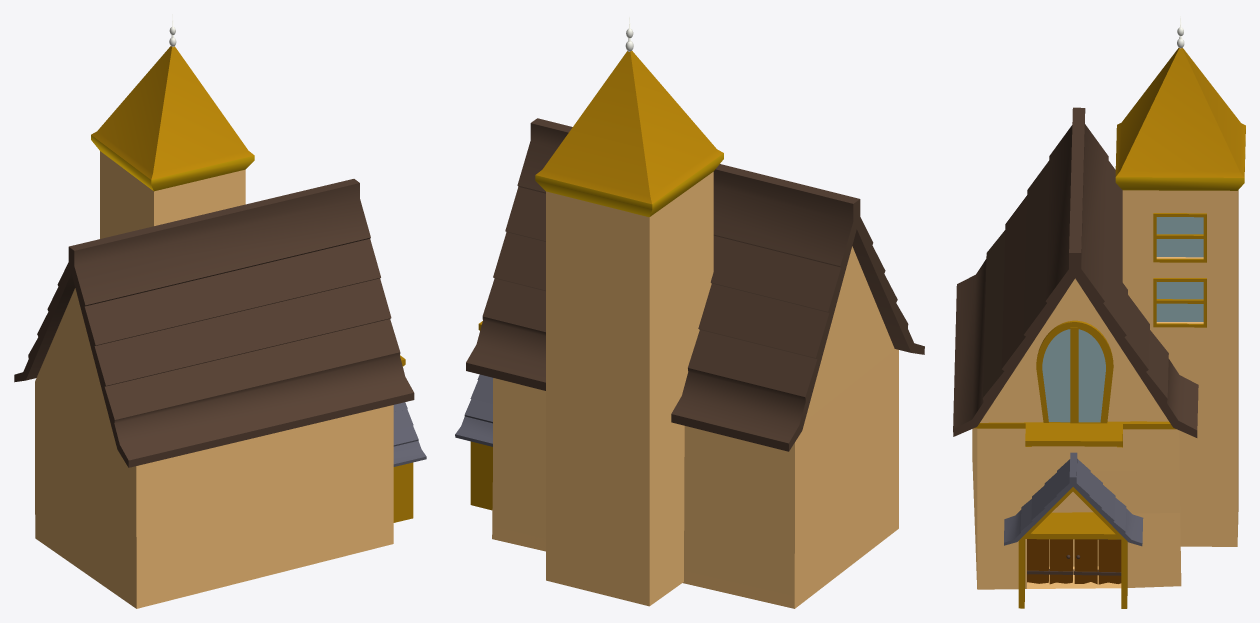
The model's file is House6.fbx.
3 views of the same model, side by side, from view 1: azimuth 30°, elevation 25°; view 2: azimuth 150°, elevation 25°; view 3: azimuth 270°, elevation 25° (orthographic). The views are drawn at different scales.
Parts seen in each view (by area): view 1: Default(D918DCCD-2917-4017-B54F-1DBC33B5E81E), pCube12, Default(06B24B22-9CDE-4601-B50D-6073F47573F7), Default(25EBCE96-919C-42B2-94B0-D2AB26F09CA7), Default(8A311567-3C1D-4961-8098-878DD486F05E), Default(64937322-89D8-4AE9-8042-CF31B6D1F1B2), Default(DEB19FDE-6F09-458B-93FE-27B75FC9B4D1); view 2: Default(25EBCE96-919C-42B2-94B0-D2AB26F09CA7), pCube12, Default(D918DCCD-2917-4017-B54F-1DBC33B5E81E), Default(06B24B22-9CDE-4601-B50D-6073F47573F7), Default(8A311567-3C1D-4961-8098-878DD486F05E), Default(64937322-89D8-4AE9-8042-CF31B6D1F1B2), Default(DEB19FDE-6F09-458B-93FE-27B75FC9B4D1); view 3: Default(D918DCCD-2917-4017-B54F-1DBC33B5E81E), pCube12, Default(25EBCE96-919C-42B2-94B0-D2AB26F09CA7), Default(06B24B22-9CDE-4601-B50D-6073F47573F7), Default(CEE02D35-00EF-4E37-9977-71E2DD6D1BD2), Default(64937322-89D8-4AE9-8042-CF31B6D1F1B2), Default(847208A8-F9E9-4D86-A06D-78CFBB1B194E), Default(DEB19FDE-6F09-458B-93FE-27B75FC9B4D1), Default(10C4EEE9-996B-4BDD-983C-F51855ECD18F), Default(E2ABA6D7-B723-403A-8DDB-6A264568DC00), Default(B0A7BFFF-5777-4461-A794-4FD283C4DF8E), Default(8A311567-3C1D-4961-8098-878DD486F05E) (+4 smaller).
Part boxes in pixels (box(x1,y1,x2,y2)): Default(D918DCCD-2917-4017-B54F-1DBC33B5E81E): box(14, 179, 414, 467); pCube12: box(35, 288, 393, 608); Default(06B24B22-9CDE-4601-B50D-6073F47573F7): box(91, 46, 254, 179); Default(25EBCE96-919C-42B2-94B0-D2AB26F09CA7): box(100, 151, 245, 238); Default(8A311567-3C1D-4961-8098-878DD486F05E): box(91, 135, 254, 191); Default(64937322-89D8-4AE9-8042-CF31B6D1F1B2): box(393, 402, 426, 466); Default(DEB19FDE-6F09-458B-93FE-27B75FC9B4D1): box(393, 462, 413, 522); Default(25EBCE96-919C-42B2-94B0-D2AB26F09CA7): box(546, 172, 713, 606); pCube12: box(492, 246, 898, 608); Default(D918DCCD-2917-4017-B54F-1DBC33B5E81E): box(466, 118, 924, 451); Default(06B24B22-9CDE-4601-B50D-6073F47573F7): box(536, 51, 723, 204); Default(8A311567-3C1D-4961-8098-878DD486F05E): box(535, 153, 723, 217); Default(64937322-89D8-4AE9-8042-CF31B6D1F1B2): box(455, 374, 493, 446); Default(DEB19FDE-6F09-458B-93FE-27B75FC9B4D1): box(470, 441, 492, 510); Default(D918DCCD-2917-4017-B54F-1DBC33B5E81E): box(953, 107, 1198, 437); pCube12: box(972, 278, 1181, 589); Default(25EBCE96-919C-42B2-94B0-D2AB26F09CA7): box(1122, 190, 1238, 546); Default(06B24B22-9CDE-4601-B50D-6073F47573F7): box(1115, 48, 1245, 177); Default(CEE02D35-00EF-4E37-9977-71E2DD6D1BD2): box(1042, 329, 1105, 422); Default(64937322-89D8-4AE9-8042-CF31B6D1F1B2): box(1004, 452, 1143, 546); Default(847208A8-F9E9-4D86-A06D-78CFBB1B194E): box(1156, 217, 1203, 321); Default(DEB19FDE-6F09-458B-93FE-27B75FC9B4D1): box(1018, 487, 1127, 608); Default(10C4EEE9-996B-4BDD-983C-F51855ECD18F): box(974, 421, 1176, 447); Default(E2ABA6D7-B723-403A-8DDB-6A264568DC00): box(1036, 320, 1113, 423); Default(B0A7BFFF-5777-4461-A794-4FD283C4DF8E): box(1153, 213, 1206, 327); Default(8A311567-3C1D-4961-8098-878DD486F05E): box(1115, 129, 1245, 190).
Size of the model in its own units: 117 by 171 by 88.34.
